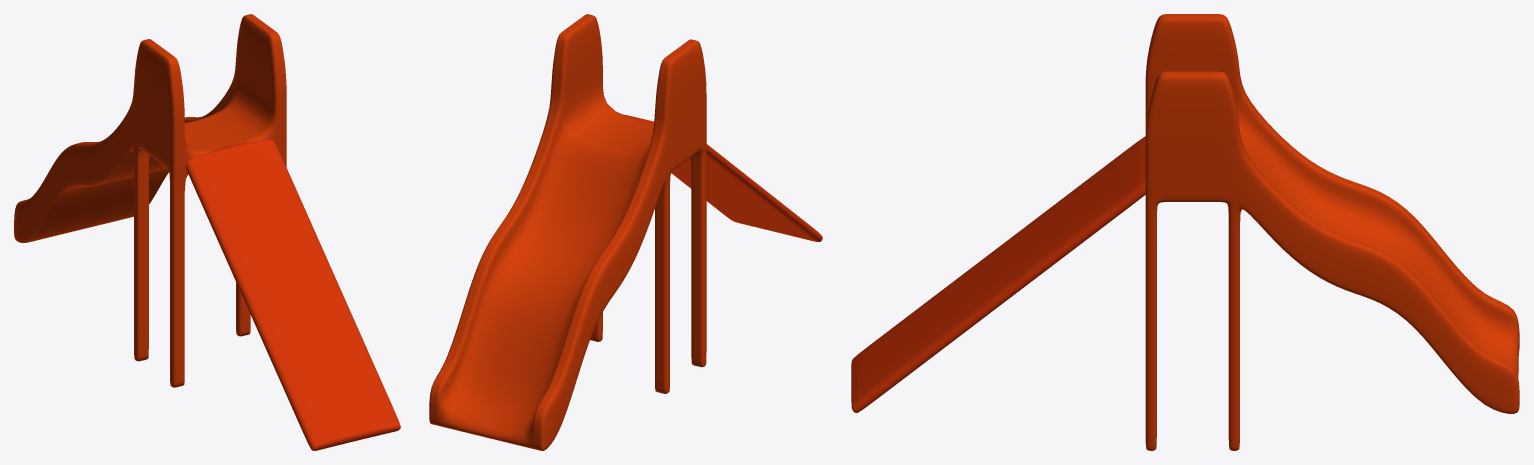
File: Rutsche.fbx
3 renders of one model, left to right at view 1: azimuth 30°, elevation 25°; view 2: azimuth 150°, elevation 25°; view 3: azimuth 270°, elevation 25°, orthographic. The views are drawn at different scales.
Visible parts, largest first — view 1: Rutschen, Leiter; view 2: Rutschen, Leiter; view 3: Rutschen, Leiter.
Boxes of the visible parts, x1=… form: Rutschen: x1=14, y1=14, x2=286, y2=387; Leiter: x1=186, y1=140, x2=400, y2=450; Rutschen: x1=429, y1=14, x2=706, y2=450; Leiter: x1=623, y1=114, x2=822, y2=241; Rutschen: x1=1145, y1=14, x2=1519, y2=450; Leiter: x1=851, y1=136, x2=1145, y2=412.
Bounding box in the file's own units: 325 × 877 × 1416.
